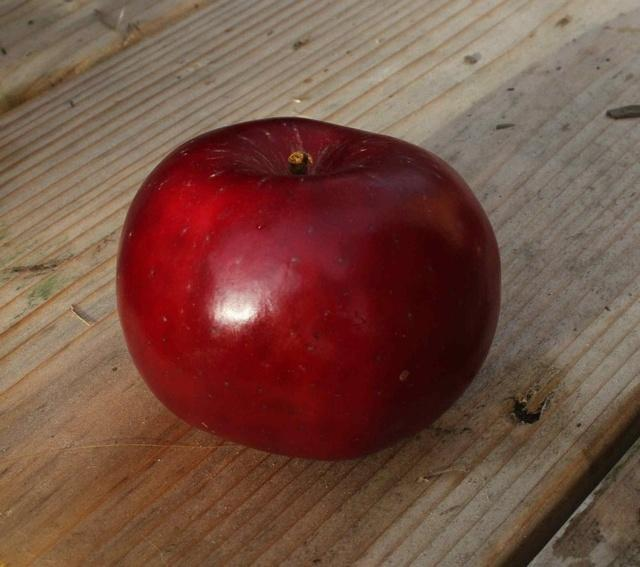apple: (114, 111, 506, 459)
